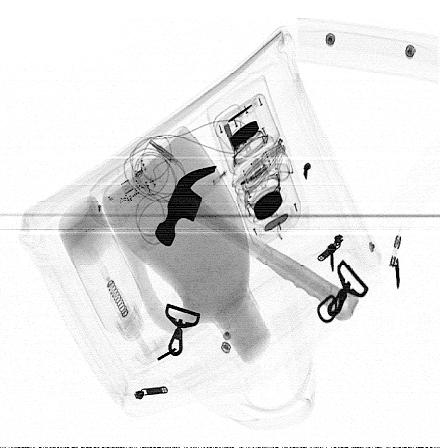Hammer: (155, 166, 360, 322)
